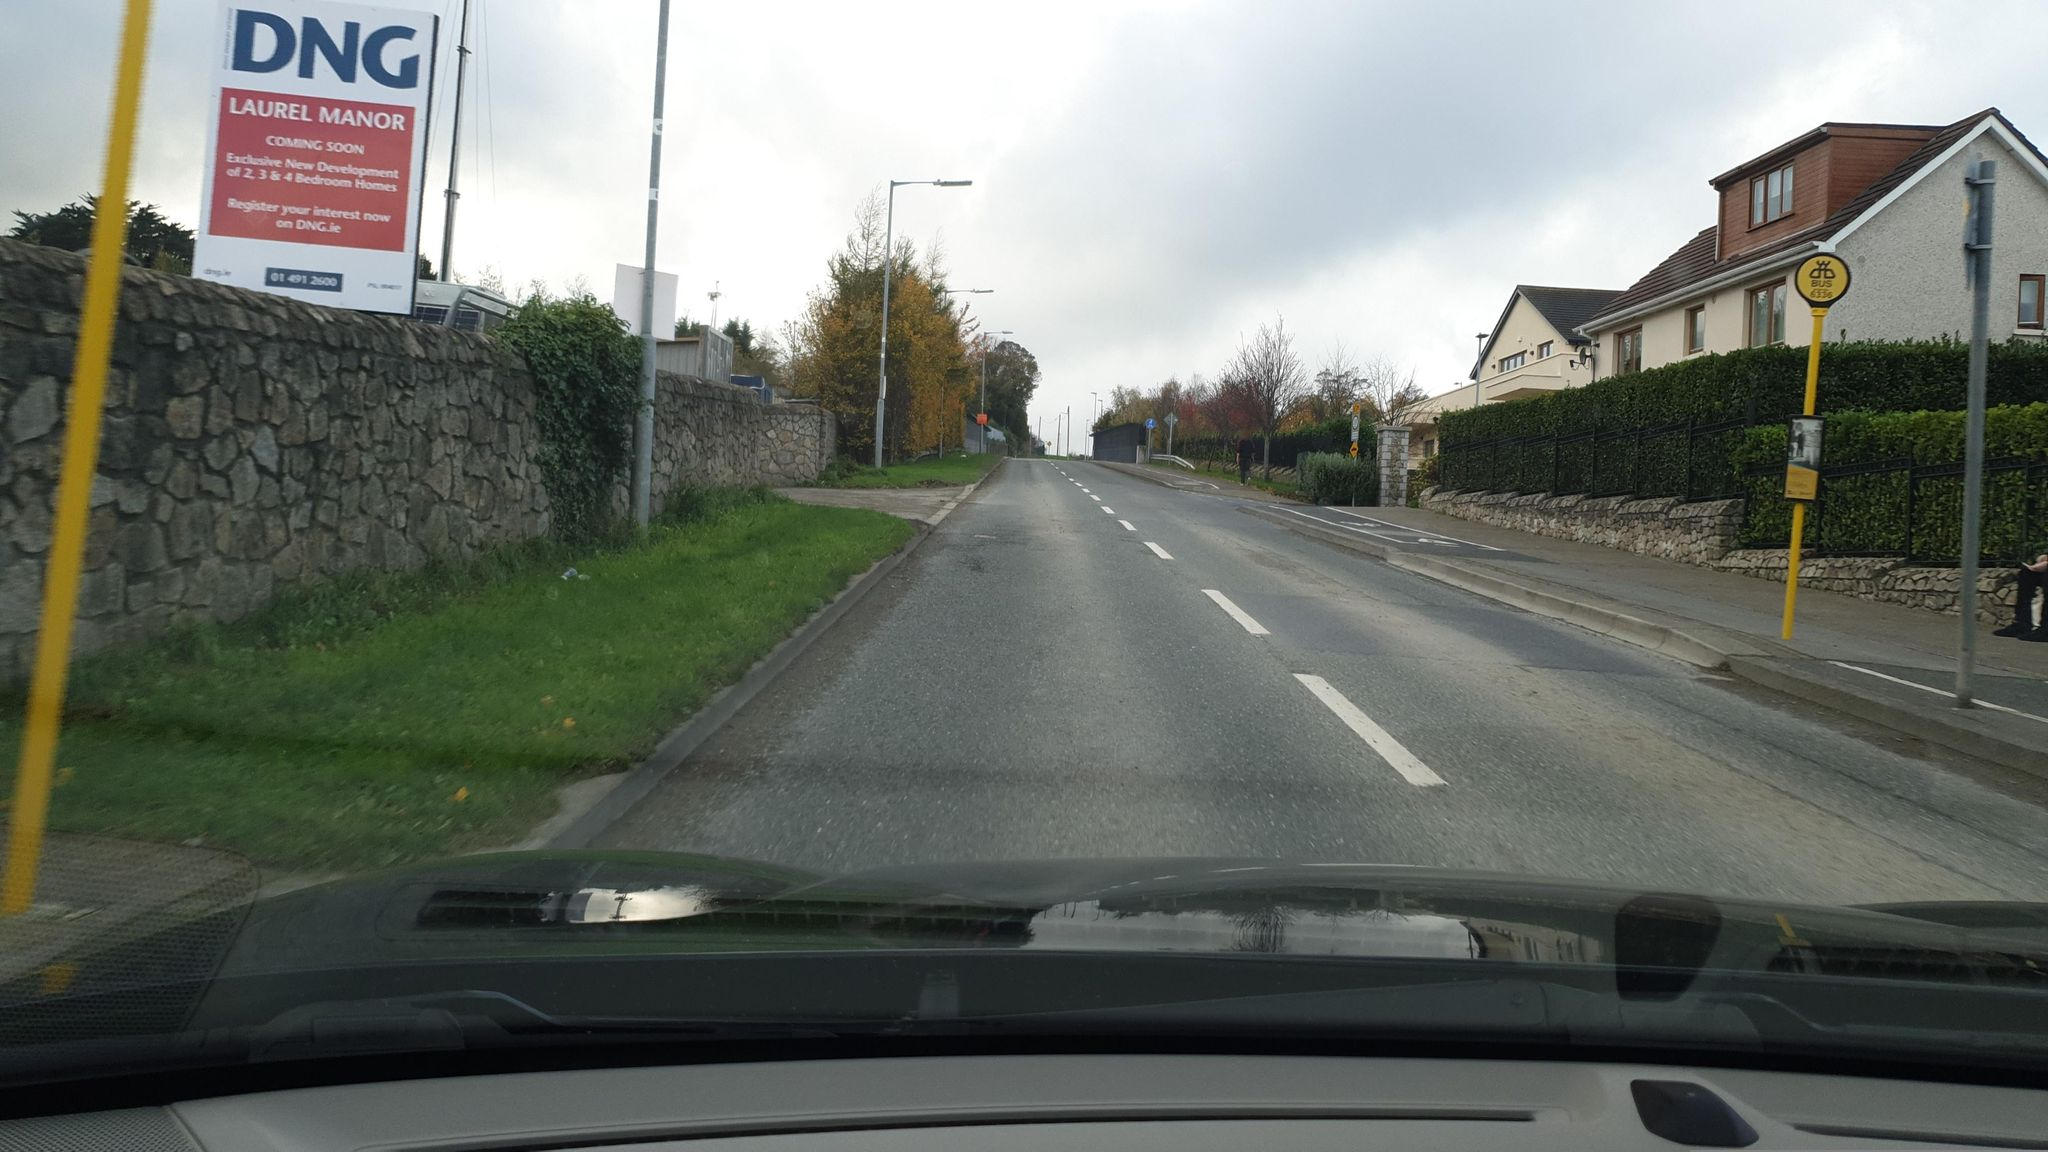property sign: (184, 4, 446, 328)
